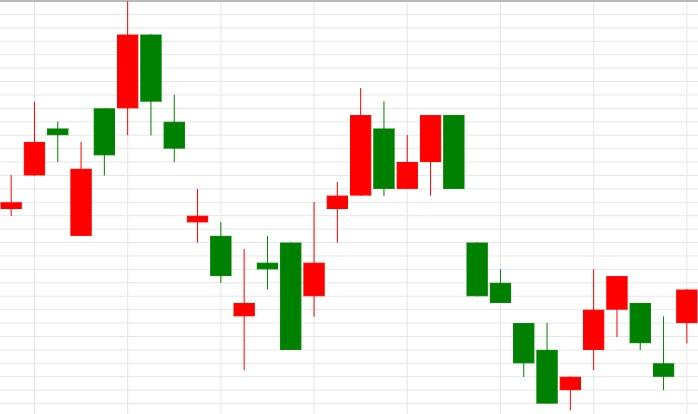three_white_soldiers_rise: (443, 115, 628, 410)
